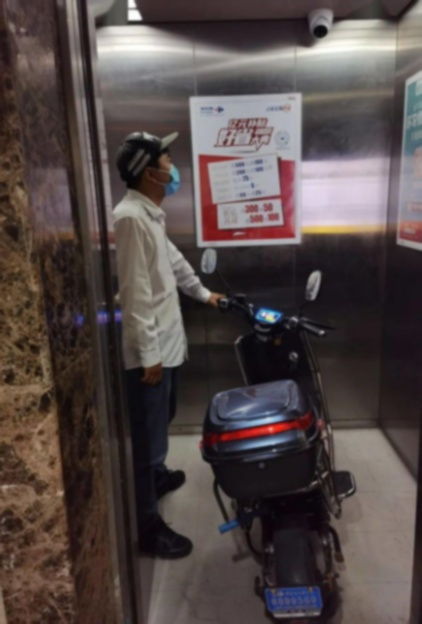ebike: (203, 246, 341, 624)
person: (117, 126, 210, 559)
